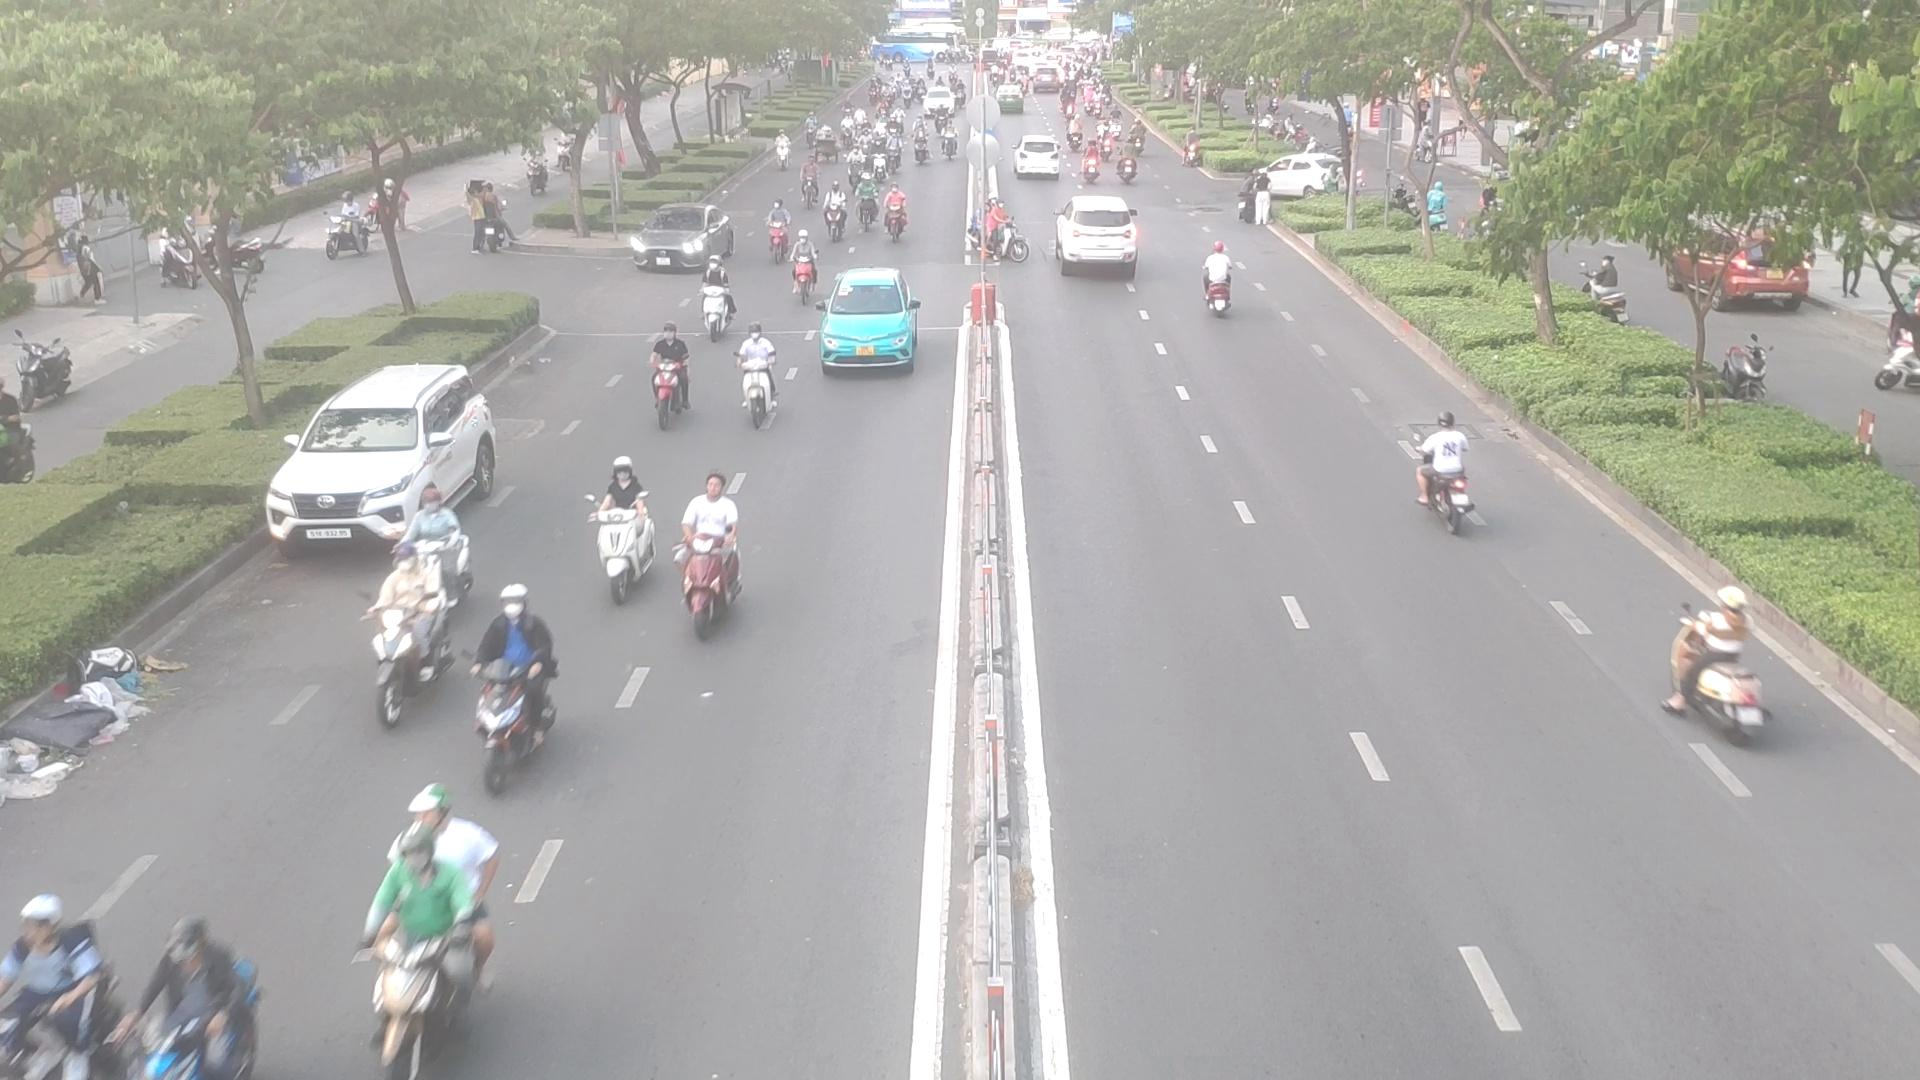car: (262, 363, 498, 556), (814, 270, 920, 375), (1054, 193, 1143, 280), (632, 204, 738, 276), (1014, 133, 1064, 177)
motorbike: (371, 804, 475, 1075), (1667, 578, 1764, 746), (671, 468, 762, 644), (476, 589, 556, 766), (371, 539, 433, 729), (591, 451, 651, 604), (396, 483, 472, 580), (1411, 425, 1474, 534), (688, 247, 742, 343), (736, 316, 785, 422), (647, 322, 696, 426), (1200, 239, 1236, 318), (986, 203, 1026, 266), (791, 229, 822, 301), (764, 198, 789, 277), (823, 175, 851, 237), (767, 121, 795, 175), (885, 178, 909, 240), (796, 152, 820, 212), (1116, 132, 1143, 182), (855, 171, 876, 229), (1077, 138, 1101, 187), (844, 142, 866, 183), (885, 131, 905, 173), (872, 138, 889, 181)
